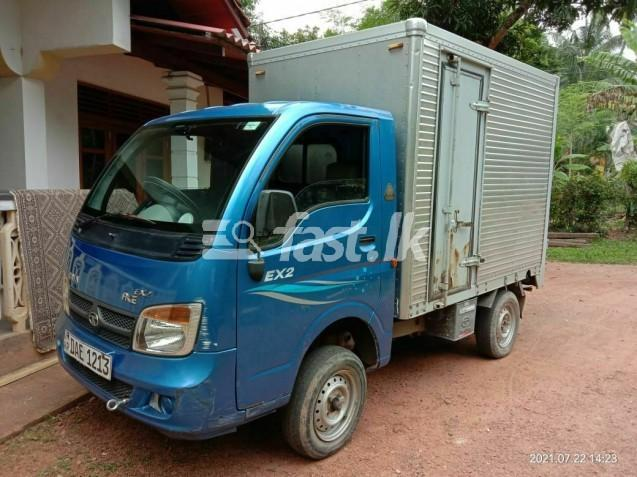truck: (54, 16, 560, 460)
